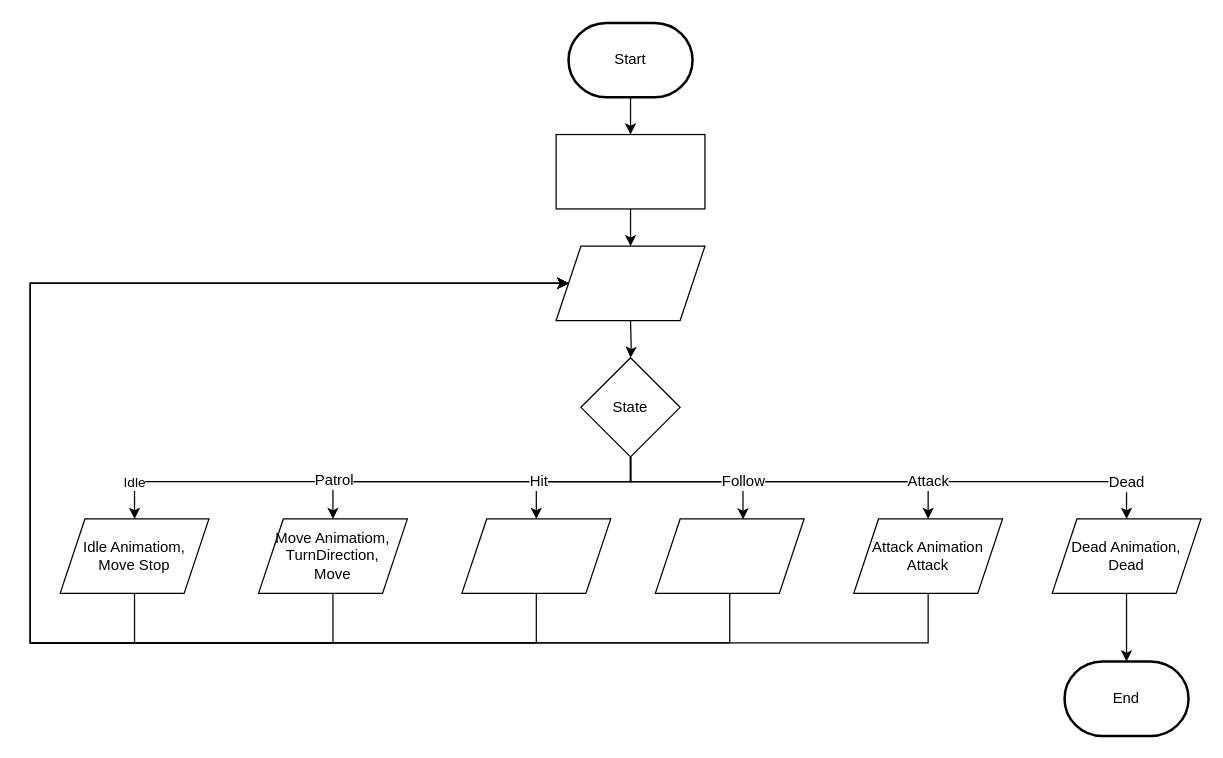
The diagram is 1223 pixels wide and 758 high, and some of its shapes have lost their labels. Each missing label, with the centre of its shape:
"Hit Animation, Knock Back GetDamage" goes at point (536, 555).
"Move Animatiom, LockAtPlayer Move" goes at point (729, 555).
"Setup" goes at point (630, 171).
"Update" goes at point (630, 283).
